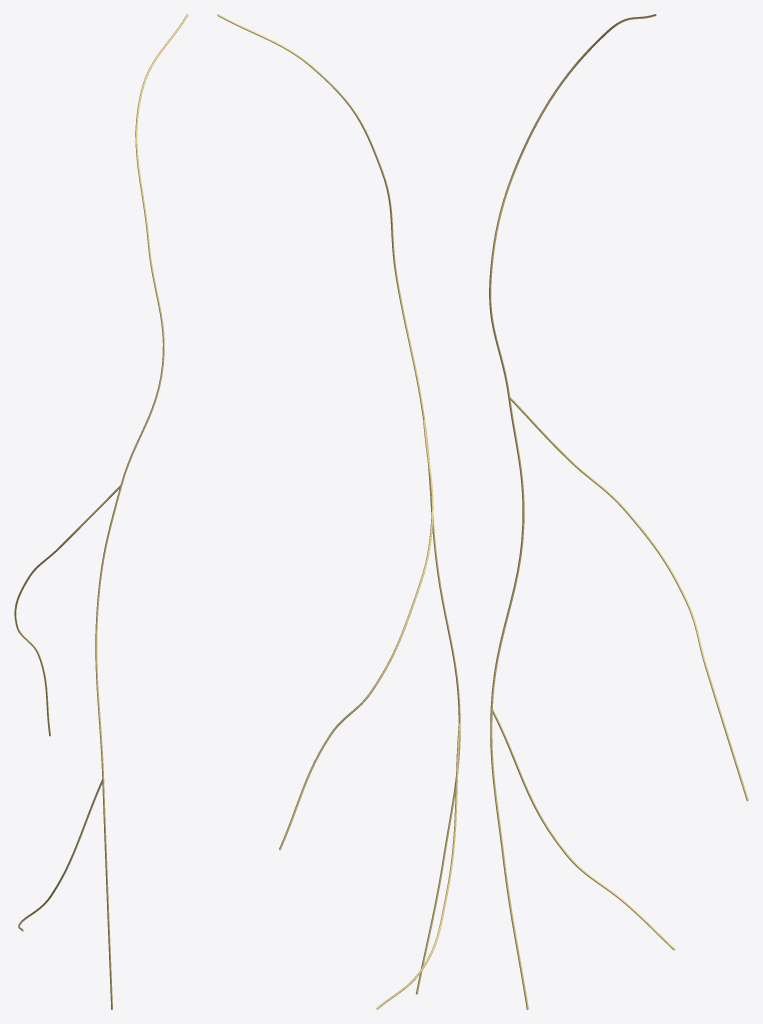
3 views of the same model, side by side, from view 1: azimuth 30°, elevation 25°; view 2: azimuth 150°, elevation 25°; view 3: azimuth 270°, elevation 25° (orthographic). The views are drawn at different scales.
Parts seen in each view (by area): view 1: ZA_6918c6f57ead2571; view 2: ZA_6918c6f57ead2571; view 3: ZA_6918c6f57ead2571.
Part boxes in pixels (left/top/right/bottom): ZA_6918c6f57ead2571: left=14, top=14, right=188, bottom=1009; ZA_6918c6f57ead2571: left=217, top=14, right=460, bottom=1009; ZA_6918c6f57ead2571: left=489, top=14, right=748, bottom=1009.
Bounding box in the file's own units: 0.1083 × 0.5251 × 0.1157.
